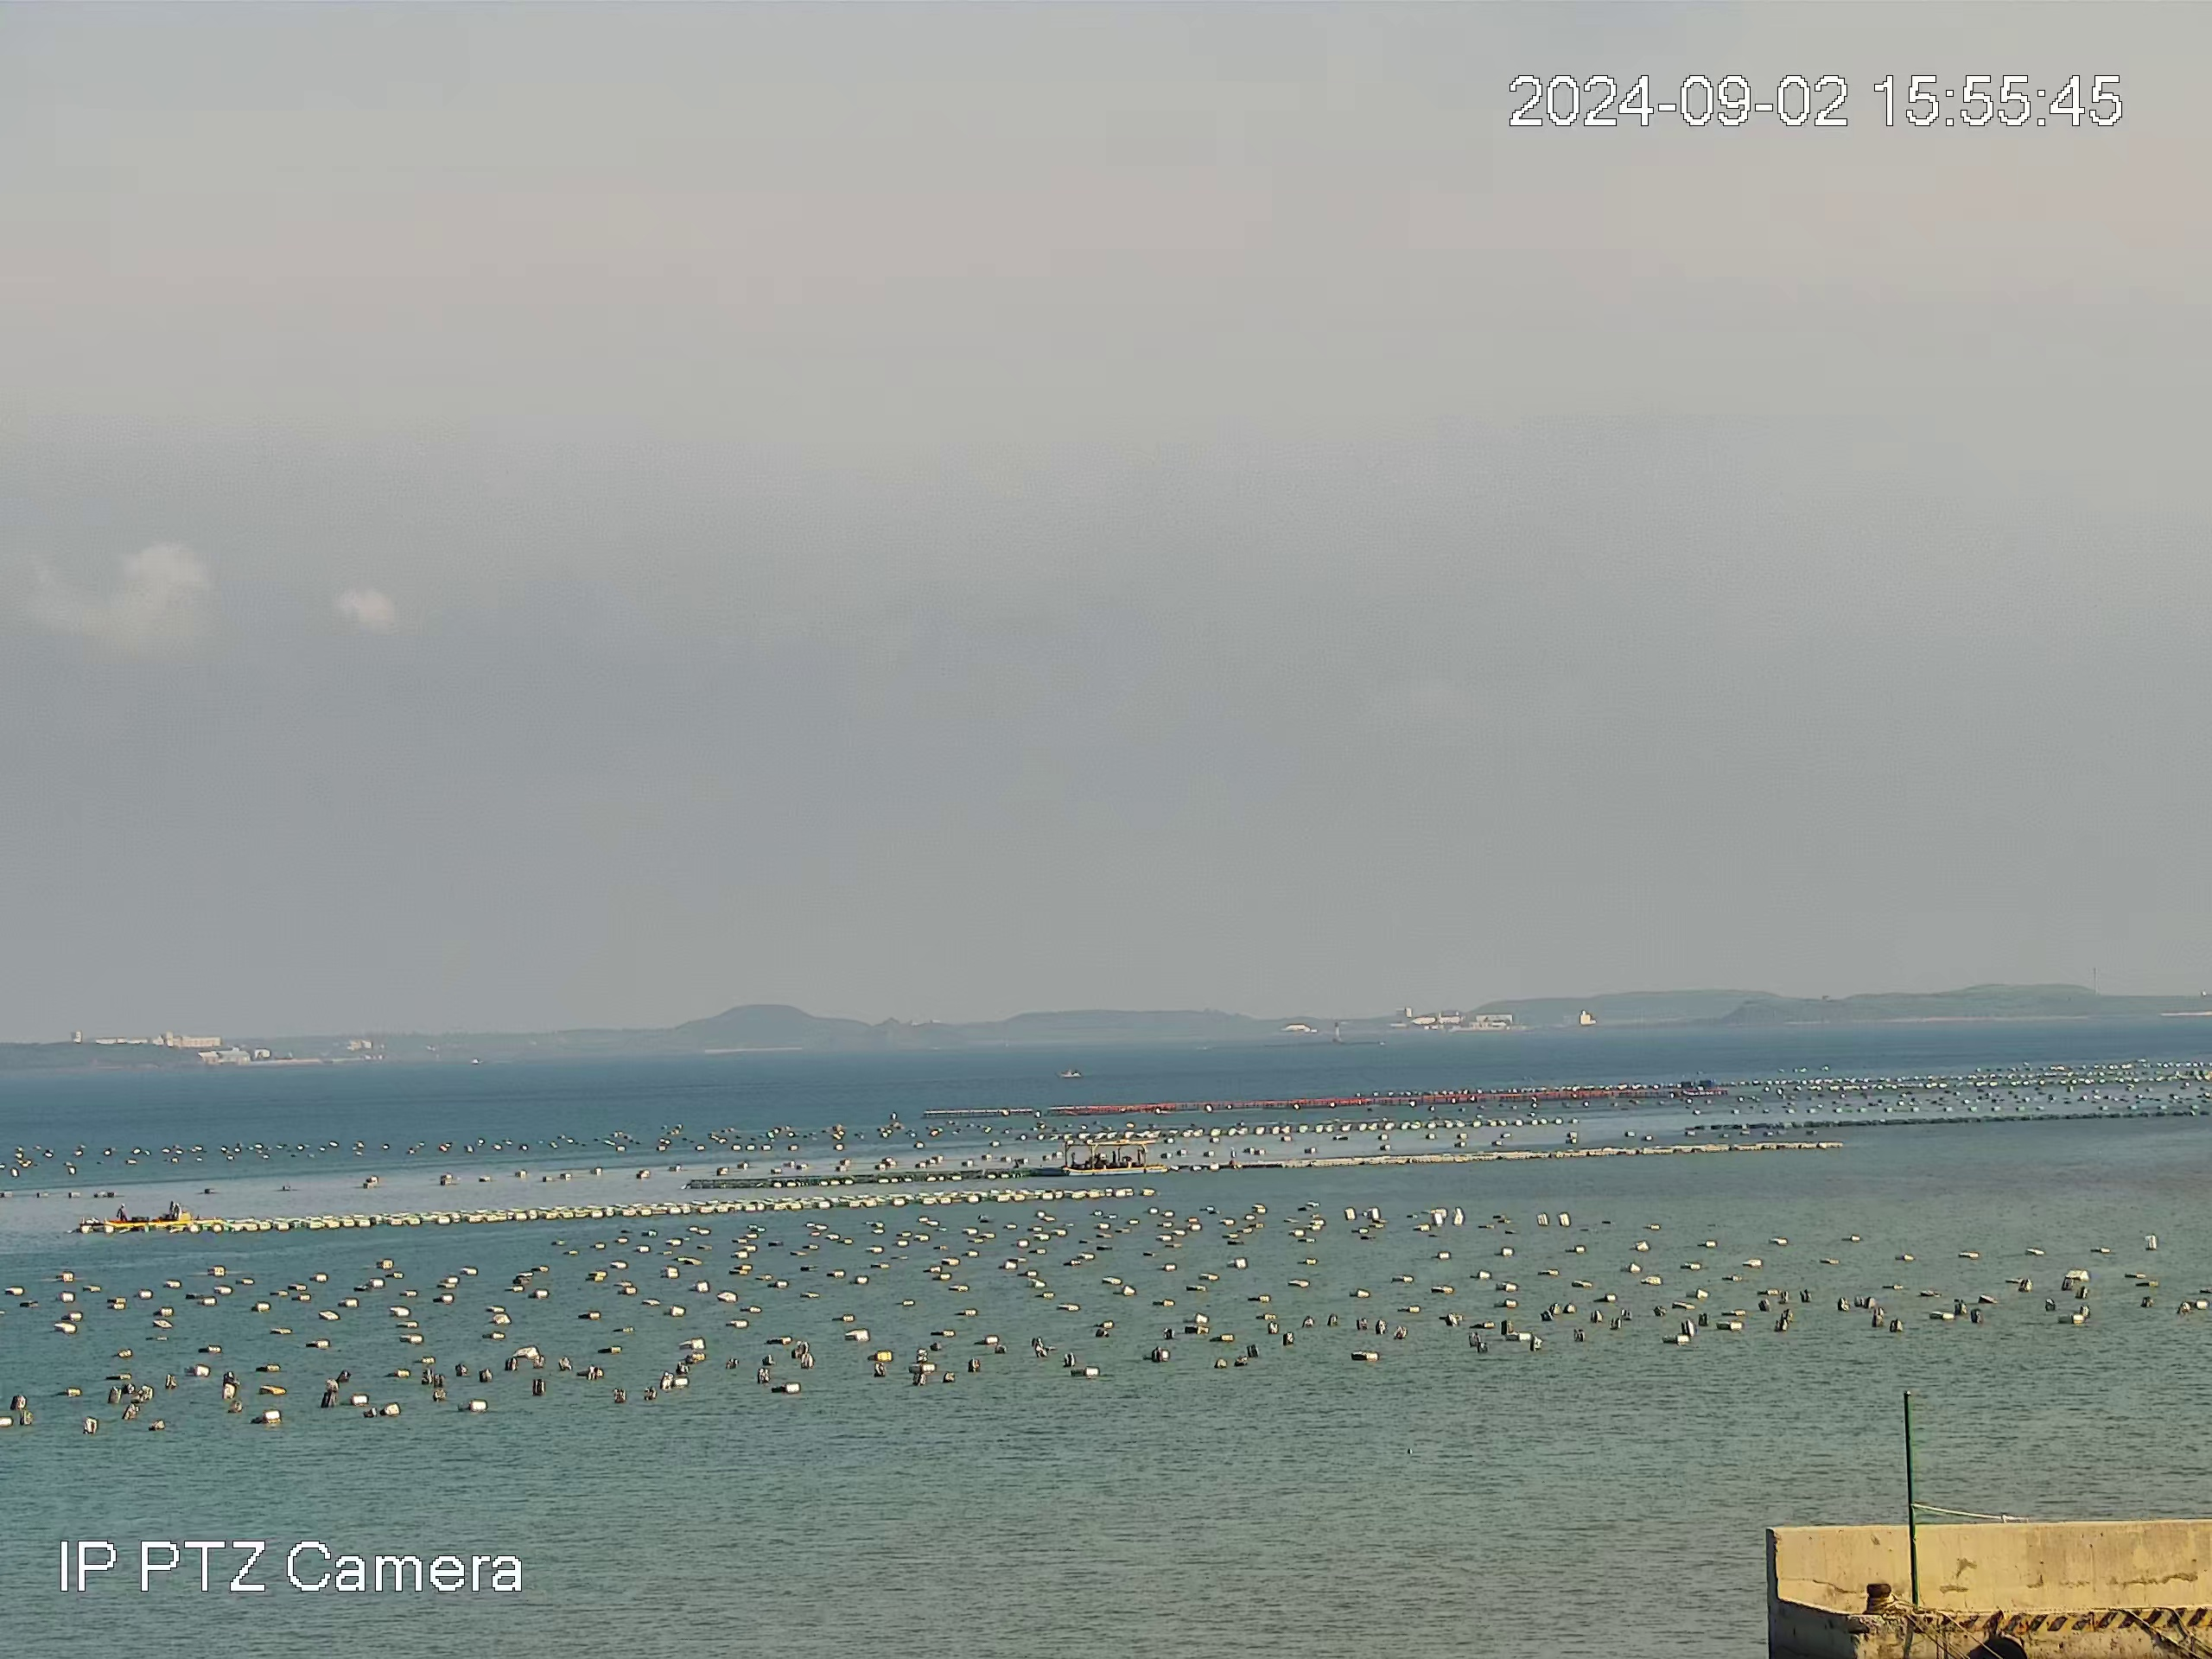boat: (1061, 1138, 1167, 1176), (101, 1199, 225, 1227), (1052, 1066, 1083, 1079)
